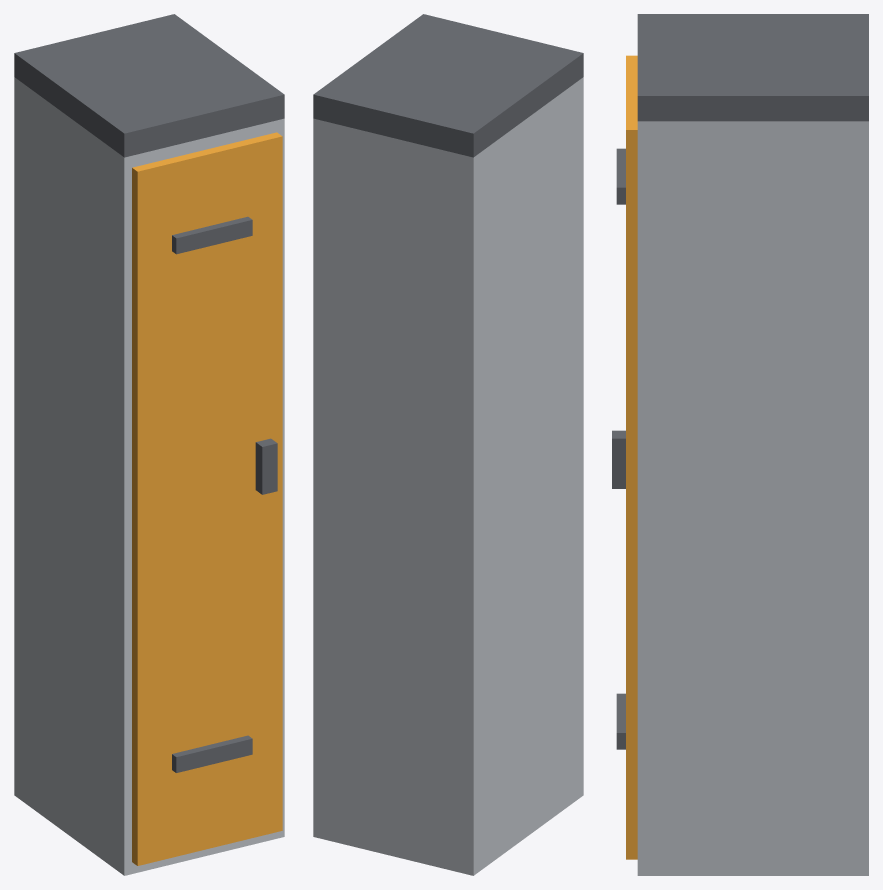
The model's file is ski-resort-and-snow-park-gear-locker-e6f66545__26028.glb.
3 renders of one model, left to right at view 1: azimuth 30°, elevation 25°; view 2: azimuth 150°, elevation 25°; view 3: azimuth 270°, elevation 25°, orthographic. The views are drawn at different scales.
Visible parts, largest first — view 1: gear-locker, locker-door (×2); view 2: gear-locker; view 3: gear-locker, locker-door (×2).
Boxes of the visible parts, left/top/right/bottom form: gear-locker: left=14, top=14, right=284, bottom=875; locker-door (×2): left=132, top=132, right=282, bottom=865; gear-locker: left=313, top=14, right=583, bottom=875; gear-locker: left=637, top=14, right=868, bottom=875; locker-door (×2): left=612, top=55, right=637, bottom=859.
Size of the model in its own units: 0.42 by 1.86 by 0.555.
